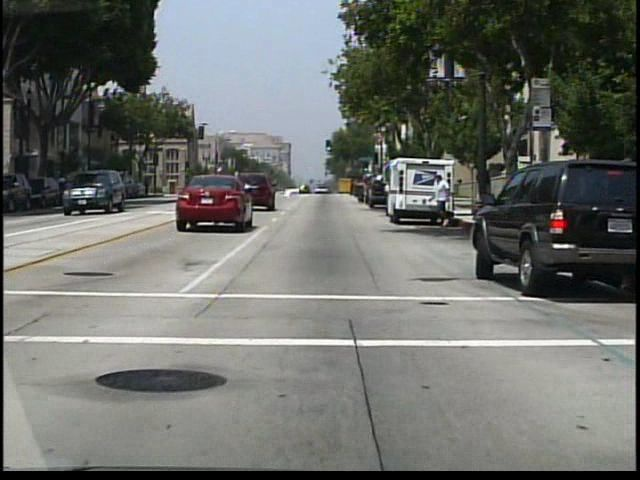person: (426, 174, 456, 231), (355, 173, 372, 207)
